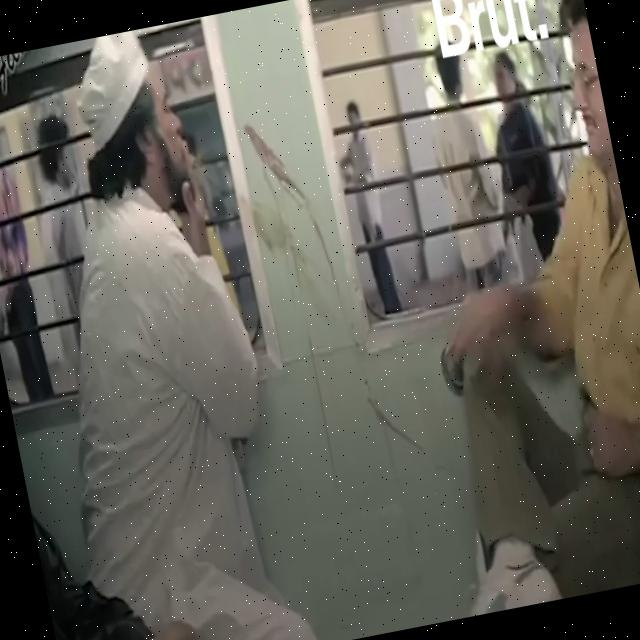spit: (83, 33, 382, 323)
